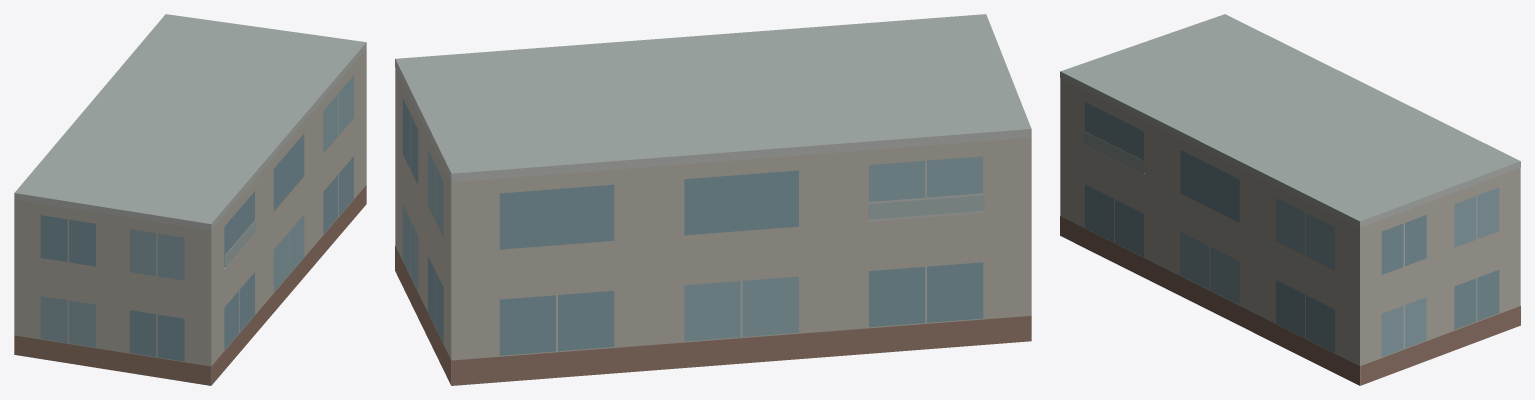
Rendered from survey-upis-32772484.glb.
3 renders of one model, left to right at view 1: azimuth 30°, elevation 25°; view 2: azimuth 150°, elevation 25°; view 3: azimuth 270°, elevation 25°, orthographic. The views are drawn at different scales.
Visible parts, largest first — view 1: survey-upis-32772484.tmp; view 2: survey-upis-32772484.tmp; view 3: survey-upis-32772484.tmp.
Boxes of the visible parts, x1=… form: survey-upis-32772484.tmp: x1=14, y1=14, x2=366, y2=385; survey-upis-32772484.tmp: x1=395, y1=14, x2=1031, y2=385; survey-upis-32772484.tmp: x1=1060, y1=14, x2=1520, y2=385.
Size of the model in its own units: 16.53 by 6.1 by 15.5.
